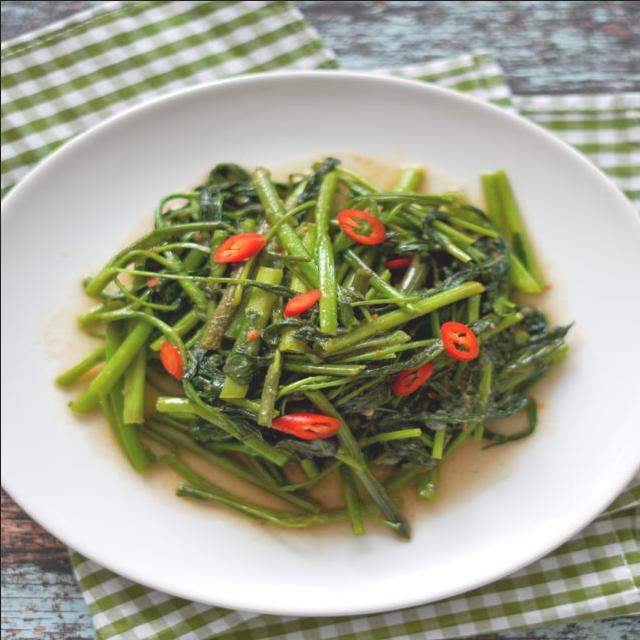tumis kangkung: (55, 152, 575, 591)
